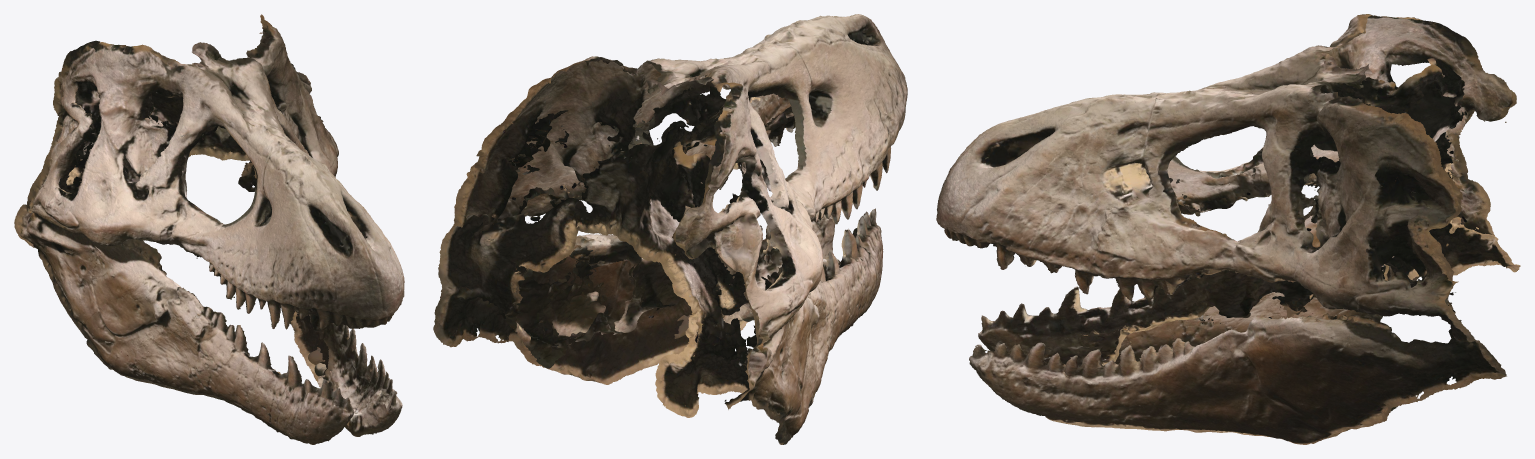
File: trex.glb
3 views of the same model, side by side, from view 1: azimuth 30°, elevation 25°; view 2: azimuth 150°, elevation 25°; view 3: azimuth 270°, elevation 25° (orthographic). The views are drawn at different scales.
Visible parts, largest first — view 1: Object_2; view 2: Object_2; view 3: Object_2.
Boxes of the visible parts, bbox=[...] form: Object_2: bbox=[14, 14, 404, 444]; Object_2: bbox=[433, 14, 907, 444]; Object_2: bbox=[936, 14, 1520, 444].
Size of the model in its own units: 2.37 by 2.52 by 3.73.
1 material, 1 textured.
